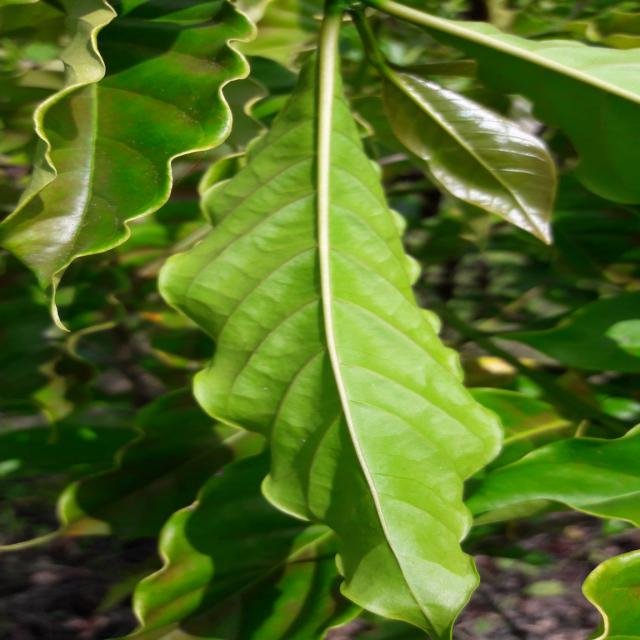Sanas: (161, 0, 505, 640)
